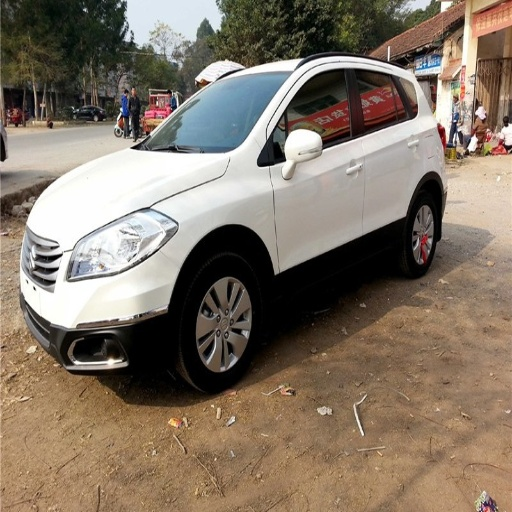front_bumper: (19, 225, 188, 372)
front_glass: (133, 76, 287, 151)
front_left_door: (269, 65, 364, 286)
